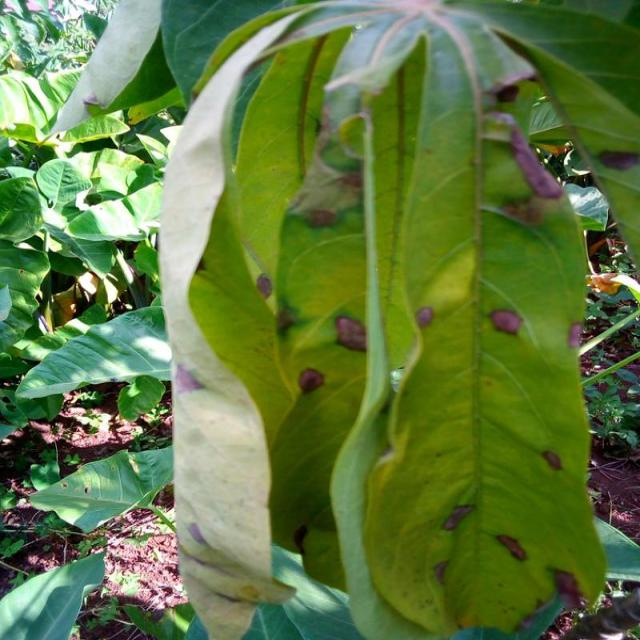cassava leaf: (156, 2, 615, 637)
